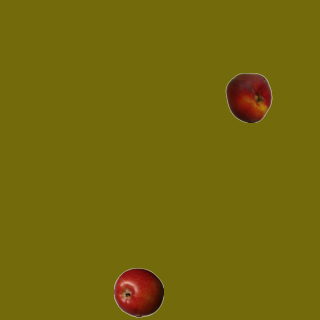Apple Braeburn: (113, 267, 163, 317)
Nectarine Flat: (223, 72, 273, 122)
